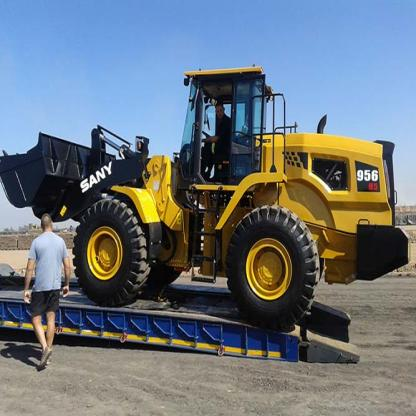bull_dozer/loader/grader: (2, 53, 416, 348)
person: (21, 209, 62, 375)
